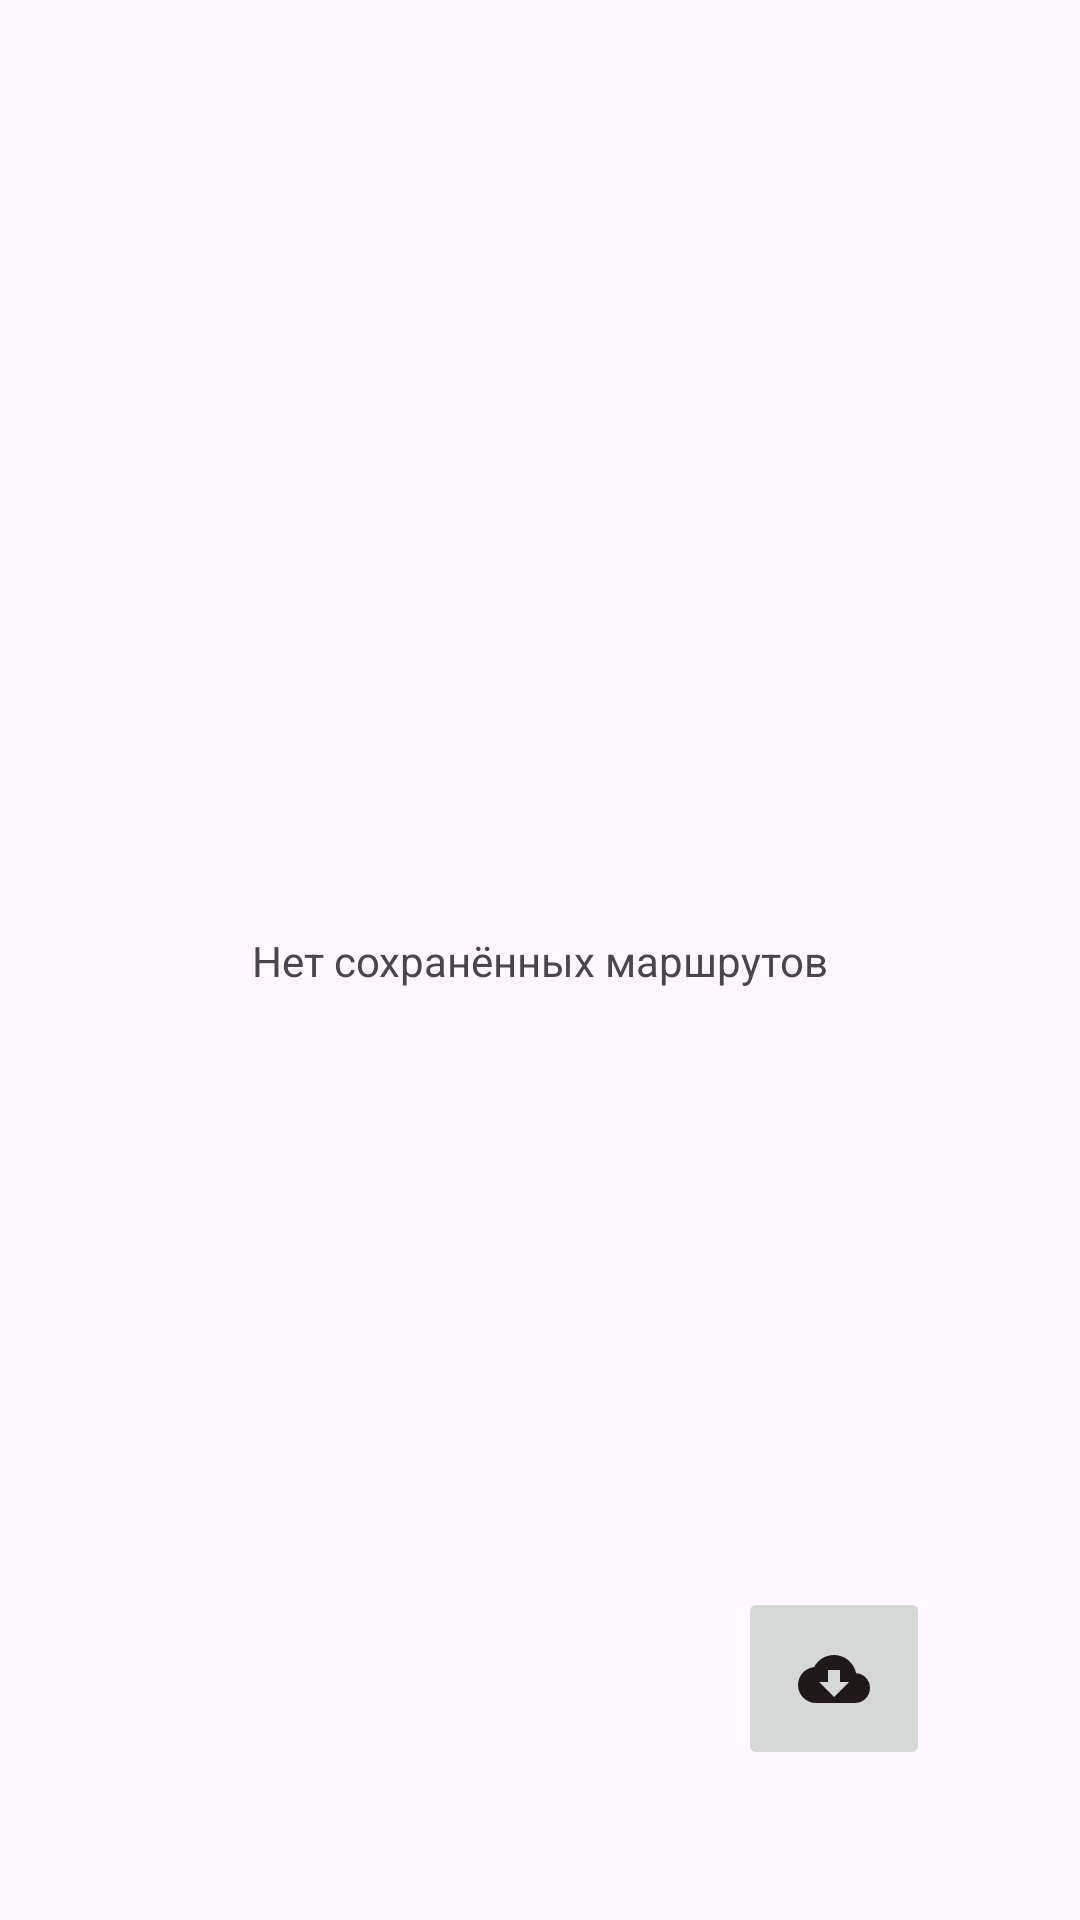

Icon click points for this 1080x1920 phone screenshot, format (x=x, y=y):
download track: (x=834, y=1678)
